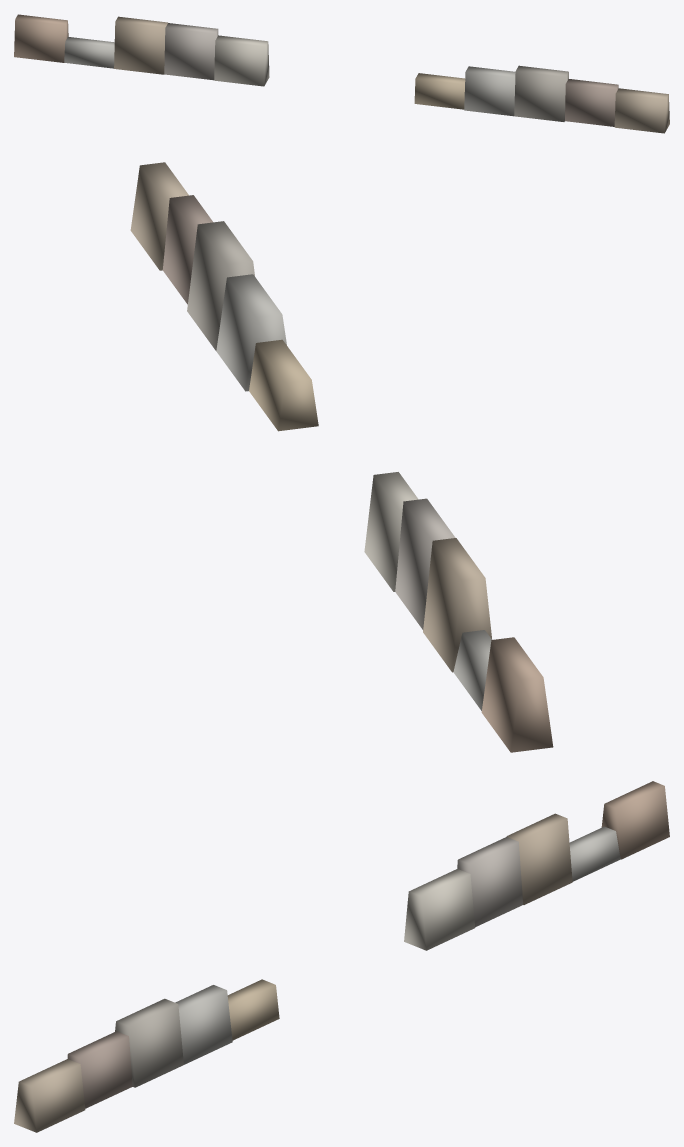
File: farm_-35_-29_collision.glb
3 views of the same model, one above another, from view 1: azimuth 30°, elevation 25°; view 2: azimuth 150°, elevation 25°; view 3: azimuth 270°, elevation 25° (orthographic). The views are drawn at different scales.
Visible parts, largest first — view 1: geometry_0; view 2: geometry_0; view 3: geometry_0.
Part boxes in pixels (box(x1,y1,x2,y2)): geometry_0: box(14, 14, 669, 133); geometry_0: box(130, 162, 553, 752); geometry_0: box(14, 781, 669, 1132).
Bounding box in the file's own units: 14.93 × 1.77 × 14.23.
